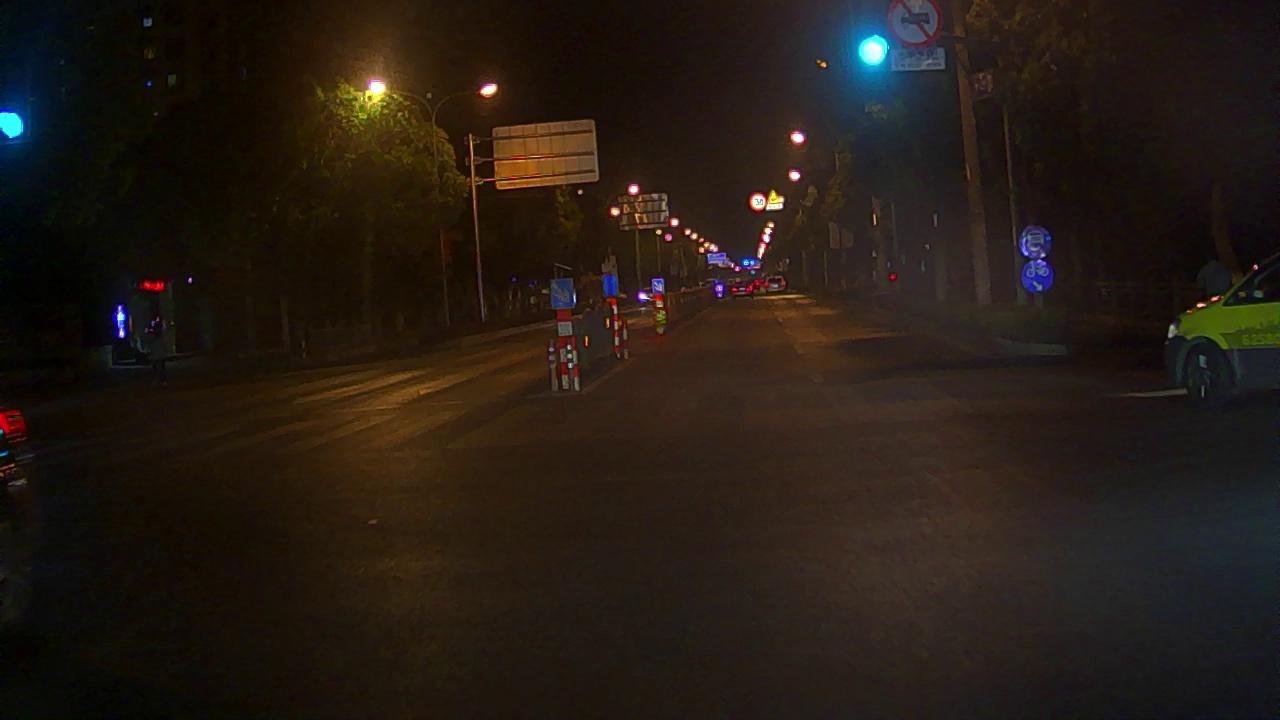traffic_light: (851, 1, 890, 73), (1, 91, 30, 141)
